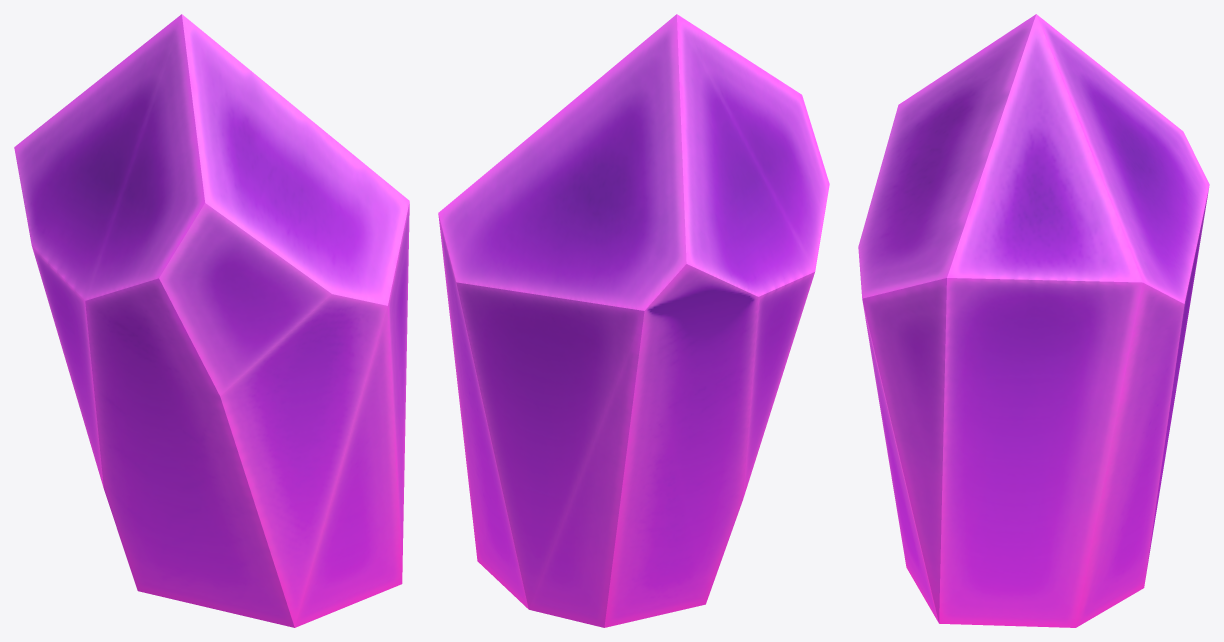
The model's file is crystal_piece_002.fbx.
3 renders of one model, left to right at view 1: azimuth 30°, elevation 25°; view 2: azimuth 150°, elevation 25°; view 3: azimuth 270°, elevation 25°, orthographic. The views are drawn at different scales.
Parts seen in each view (by area): view 1: crystal_piece_002; view 2: crystal_piece_002; view 3: crystal_piece_002.
Boxes of the visible parts, box(x1,y1,x2,y2) form: crystal_piece_002: box(14, 14, 409, 627); crystal_piece_002: box(438, 14, 829, 627); crystal_piece_002: box(858, 14, 1209, 627).
Size of the model in its own units: 0.6287 by 1.16 by 0.6902.
Materials: 1 (1 with a texture image).
